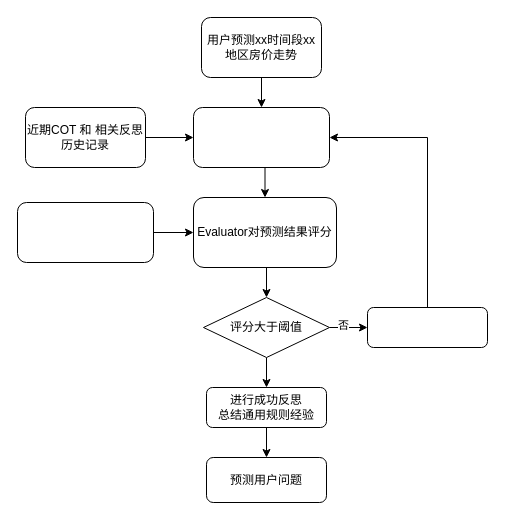
Some shapes in this 505 by 520 pixel diagram are drawn without their labels. Each missing label, with the box of its shape:
LLM预测xx时间段之前半年该地区价格走势: (192, 106, 330, 168)
获取该地区实际价格走势: (16, 202, 154, 262)
进行失败反思 反思问题: (366, 306, 488, 348)
